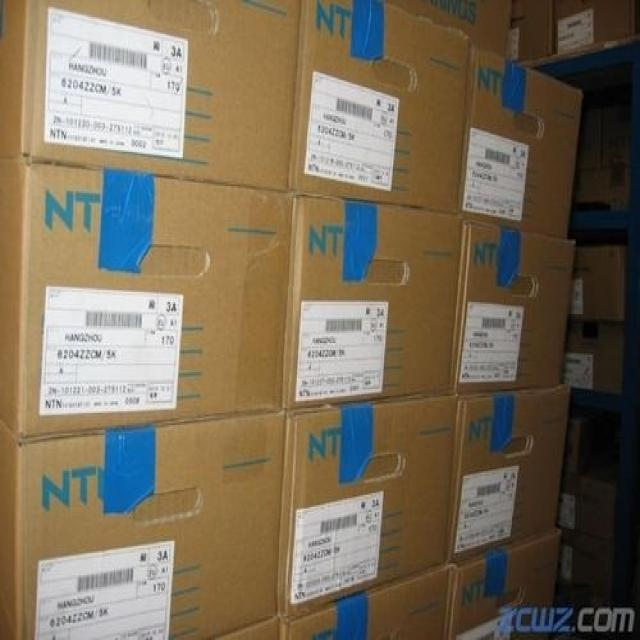box: (0, 159, 292, 442), (0, 413, 284, 640), (0, 0, 300, 191), (278, 393, 457, 618), (292, 0, 474, 213), (284, 195, 461, 411), (461, 49, 584, 237), (448, 384, 571, 565), (456, 220, 577, 393), (279, 565, 451, 640), (448, 531, 559, 640), (559, 319, 626, 393), (568, 247, 627, 321)
